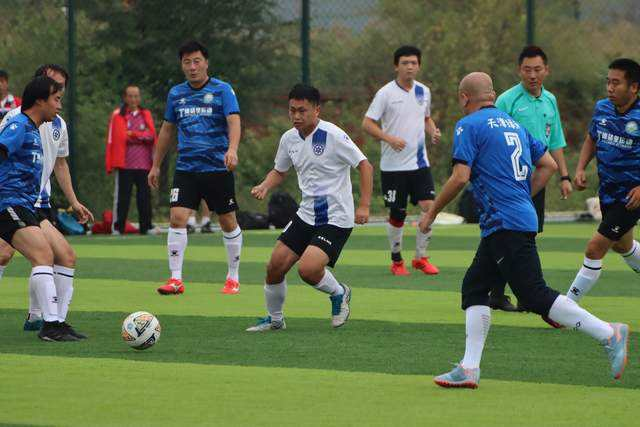football: (120, 311, 163, 352)
